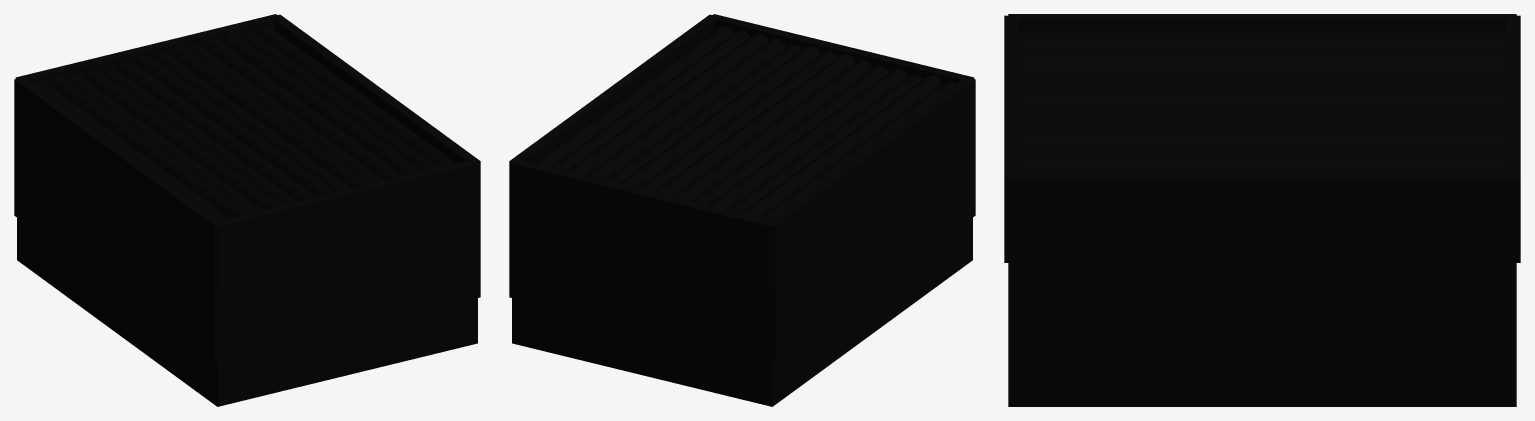
3 renders of one model, left to right at view 1: azimuth 30°, elevation 25°; view 2: azimuth 150°, elevation 25°; view 3: azimuth 270°, elevation 25°, orthographic. The views are drawn at different scales.
Parts seen in each view (by area): view 1: Joint_0_Object_0; view 2: Joint_0_Object_0; view 3: Joint_0_Object_0.
Boxes of the visible parts, bbox=[...] form: Joint_0_Object_0: bbox=[14, 14, 480, 406]; Joint_0_Object_0: bbox=[509, 14, 975, 406]; Joint_0_Object_0: bbox=[1004, 14, 1520, 406].
Bounding box in the file's own units: 768 × 500 × 1016.
Materials: 1 (1 with a texture image).
